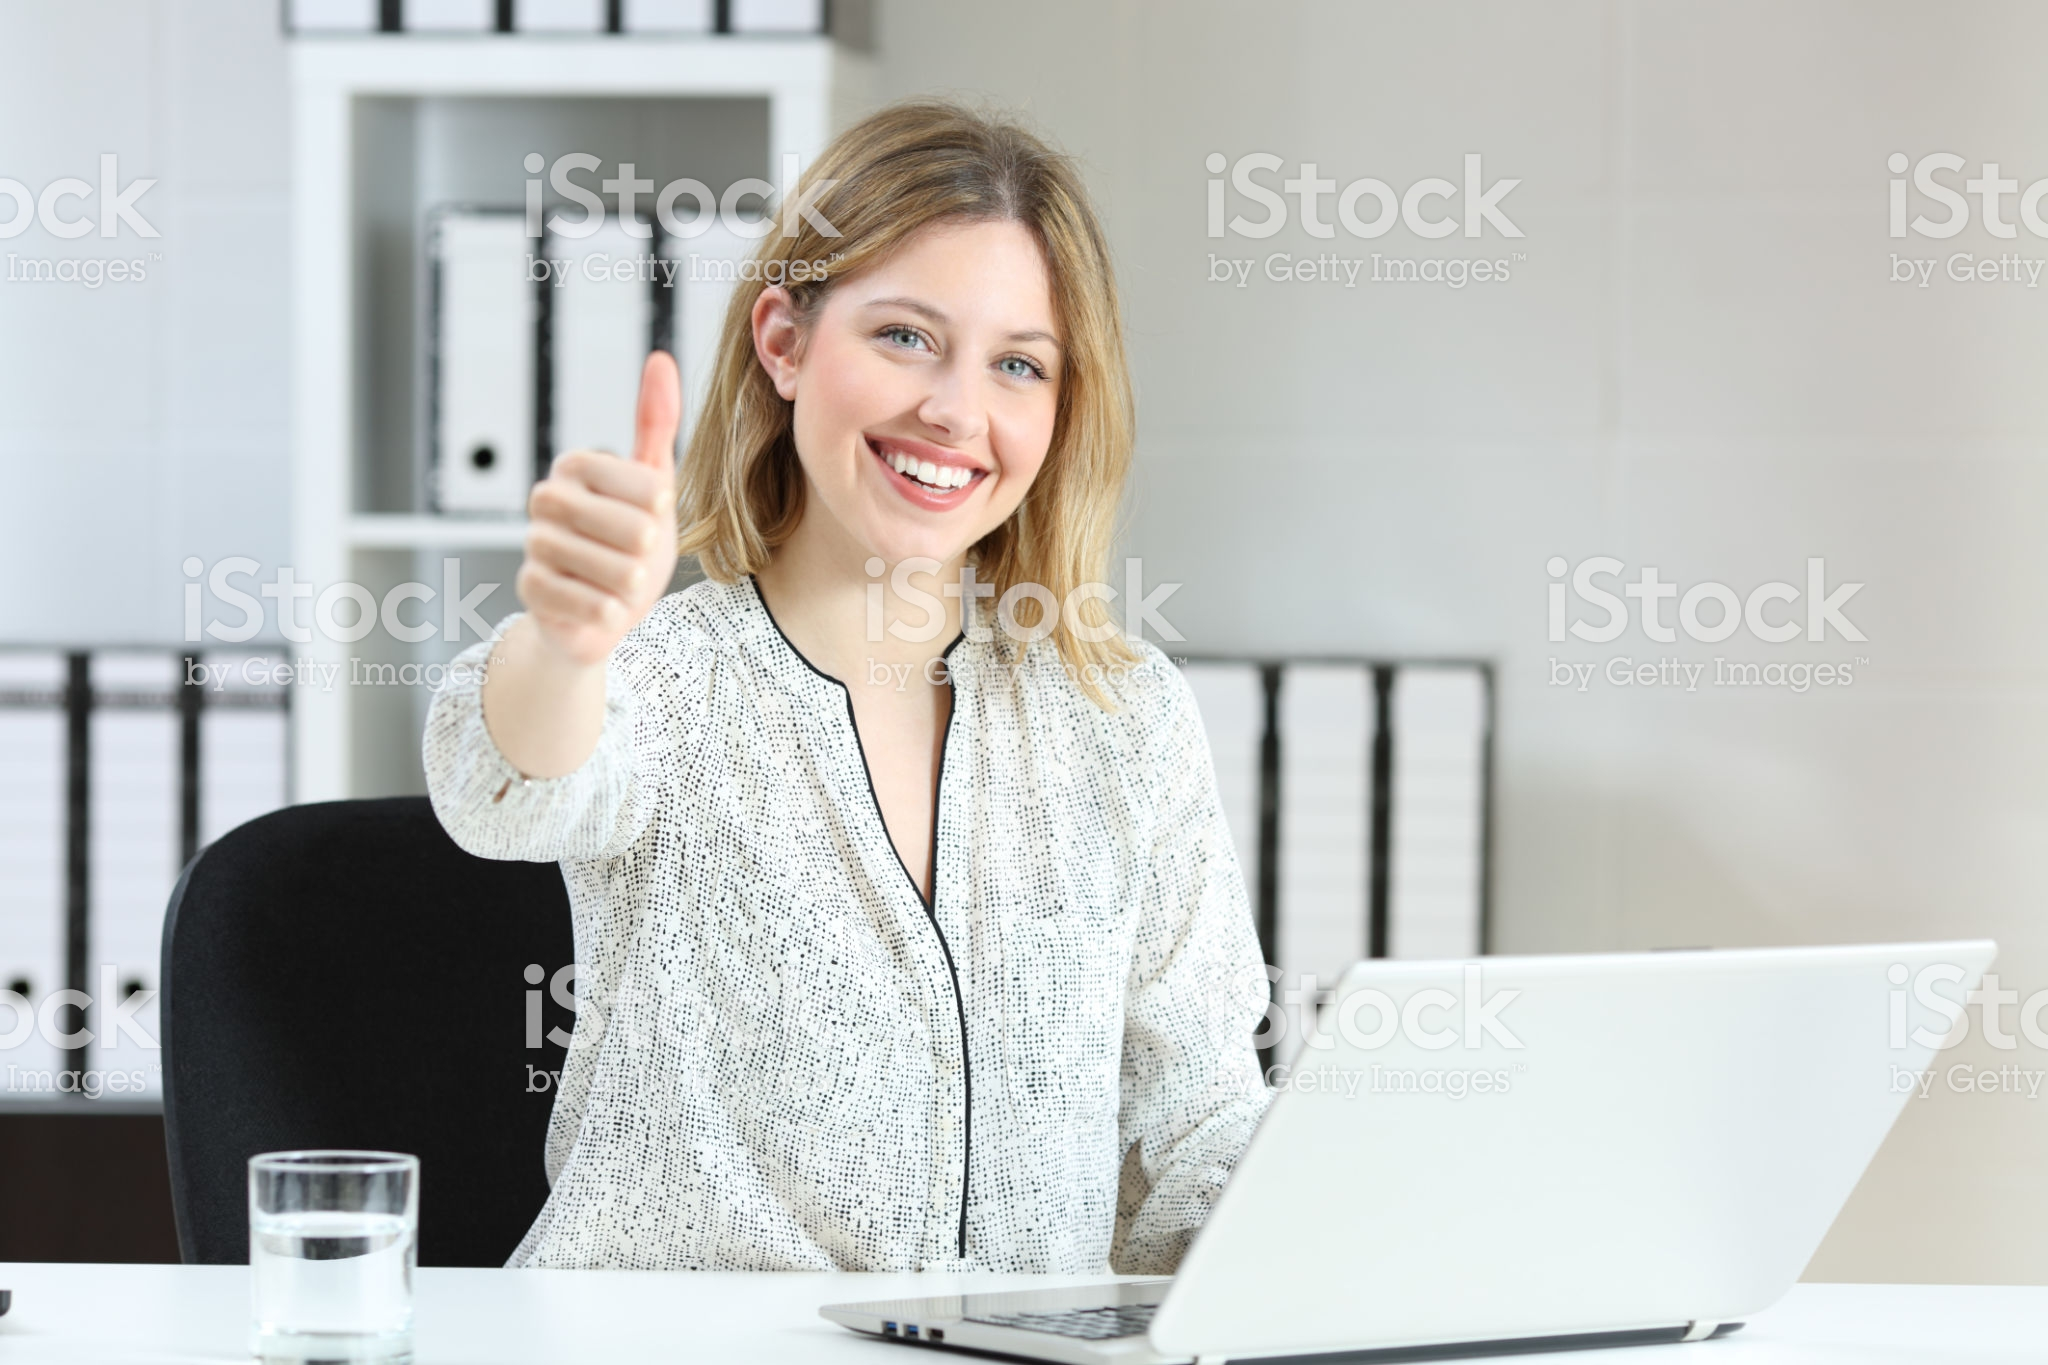thumbsup: (512, 347, 687, 654)
